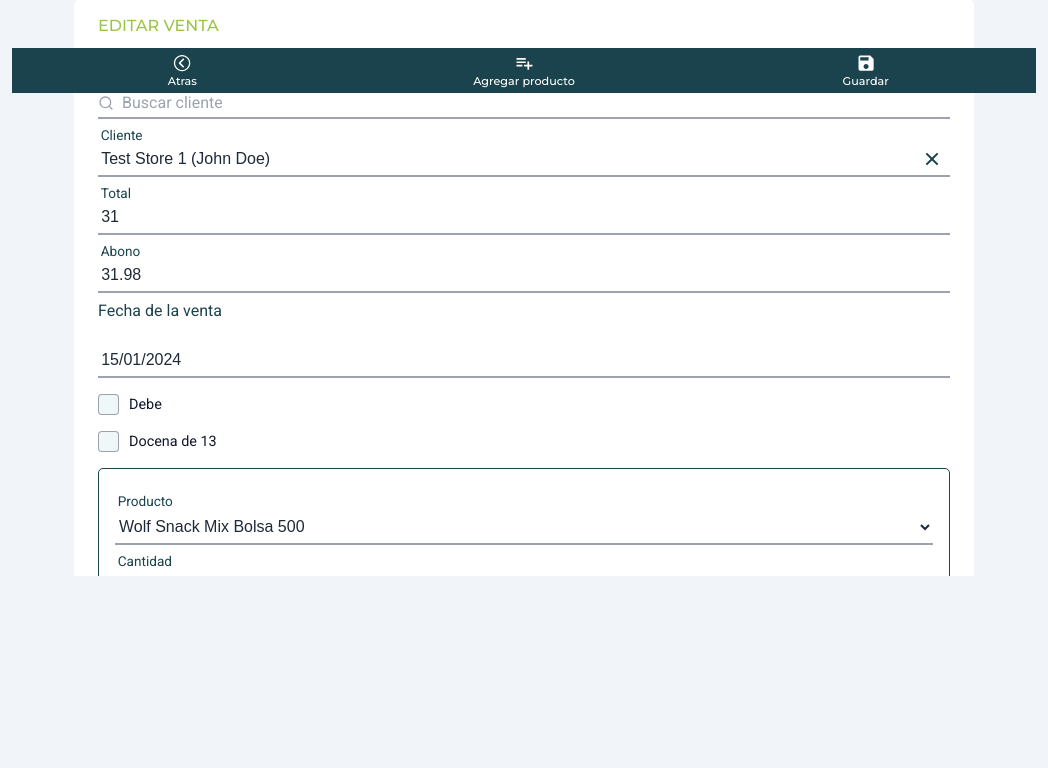
it: AddEditSalePage › Edit Sale Mode › shows error message when endpoint returns error in edit mode
The image size is (1048, 768).
Check: the number field labelled "Abono" is shown, box [98,259,950,293]
Click the button "Guardar".
click(866, 70)  # box [695,48,1036,93]
(page scrolled)
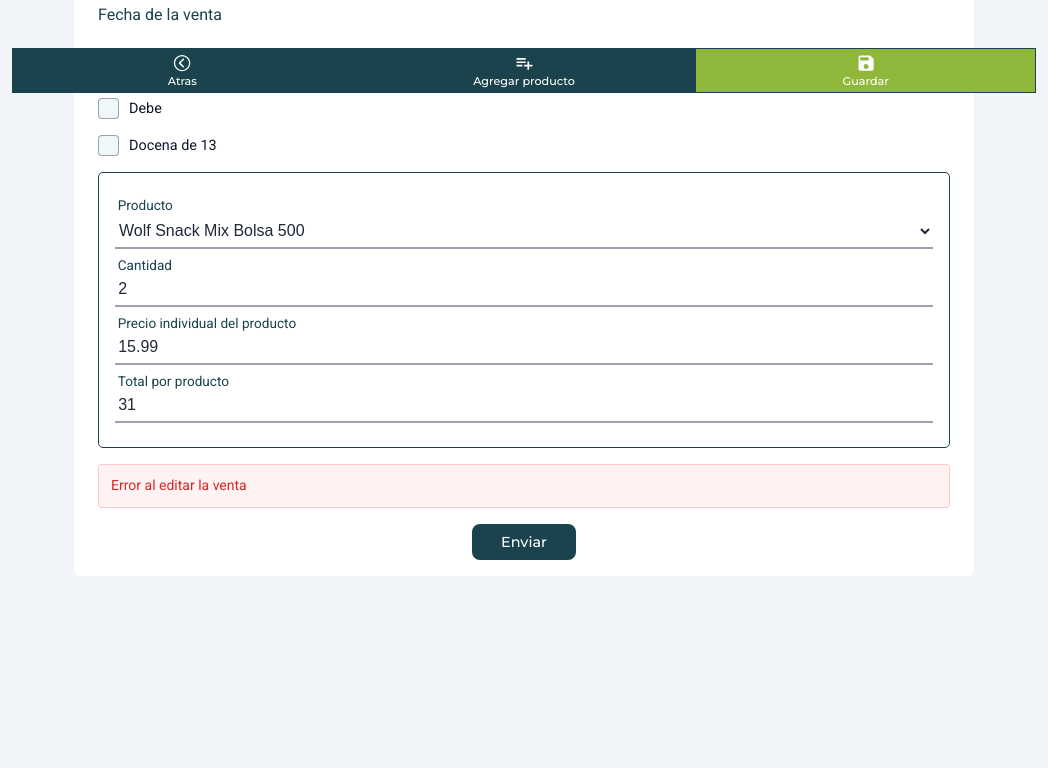
Check: the message reads "Error al editar la venta", box [111,477,247,493]
